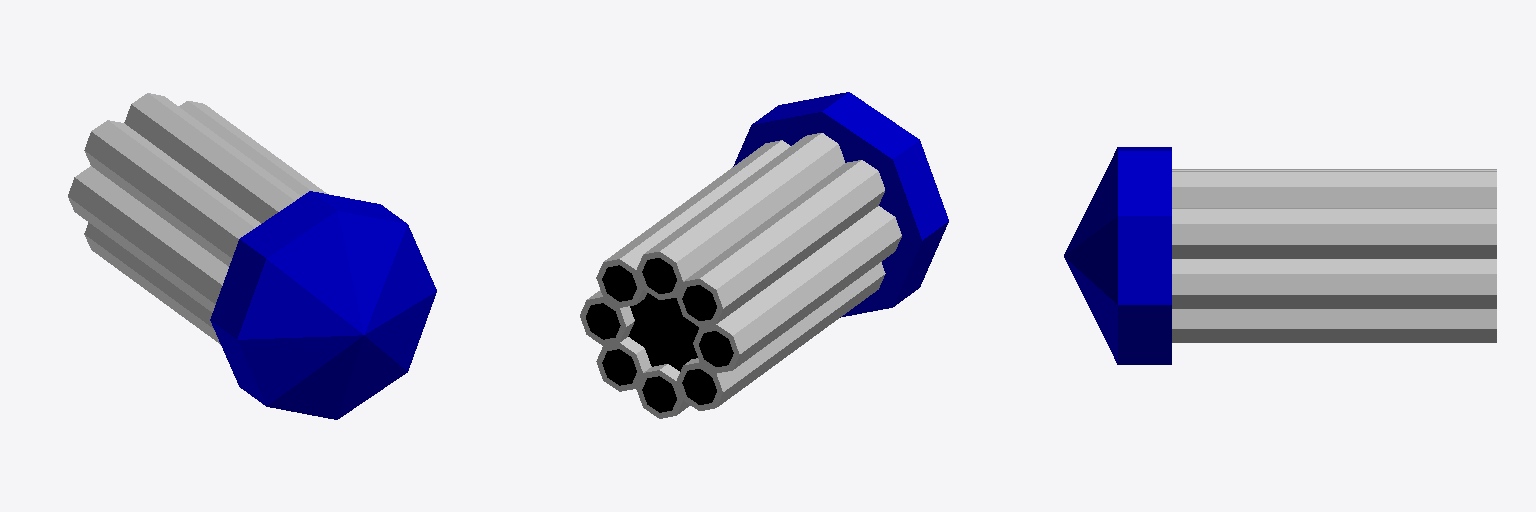
File: gatlingGun.obj
3 views of the same model, side by side, from view 1: azimuth 30°, elevation 25°; view 2: azimuth 150°, elevation 25°; view 3: azimuth 270°, elevation 25° (orthographic).
Parts seen in each view (by area): view 1: Cylinder.001_Cylinder.002; view 2: Cylinder.001_Cylinder.002; view 3: Cylinder.001_Cylinder.002.
Boxes of the visible parts, x1=… form: Cylinder.001_Cylinder.002: x1=68, y1=93, x2=436, y2=419; Cylinder.001_Cylinder.002: x1=580, y1=92, x2=948, y2=418; Cylinder.001_Cylinder.002: x1=1064, y1=147, x2=1496, y2=364.
Bounding box in the file's own units: 0.5335 × 0.5335 × 1.